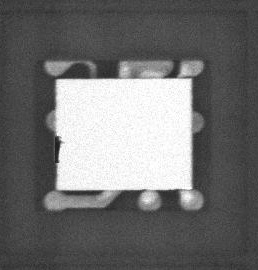DIE_BROKEN: (53, 133, 63, 165)
